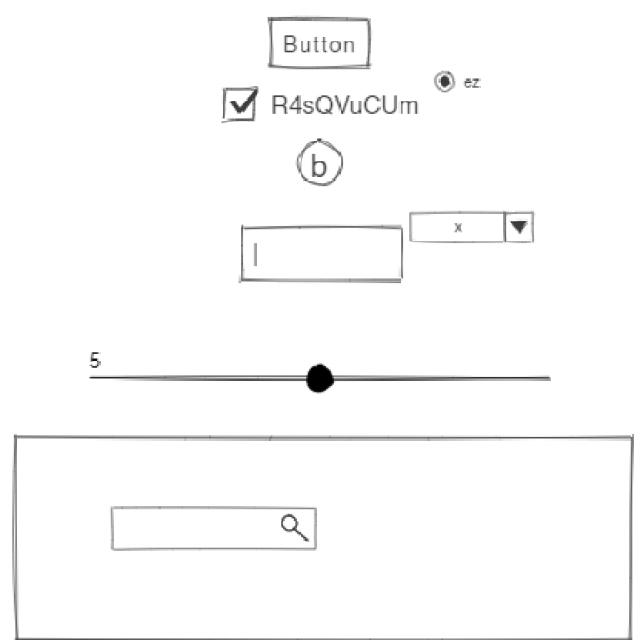button: (268, 14, 375, 72)
checkbox: (221, 84, 422, 126)
container: (11, 432, 638, 640)
input: (237, 222, 406, 287)
radio: (433, 69, 486, 96)
search: (109, 503, 321, 557)
select: (409, 210, 538, 247)
slider: (106, 362, 554, 396)
